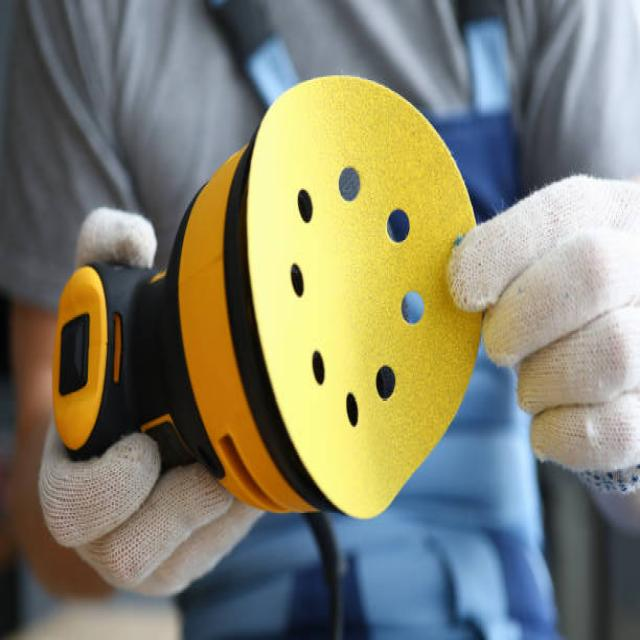gloves: (36, 210, 272, 601), (445, 173, 640, 494)
